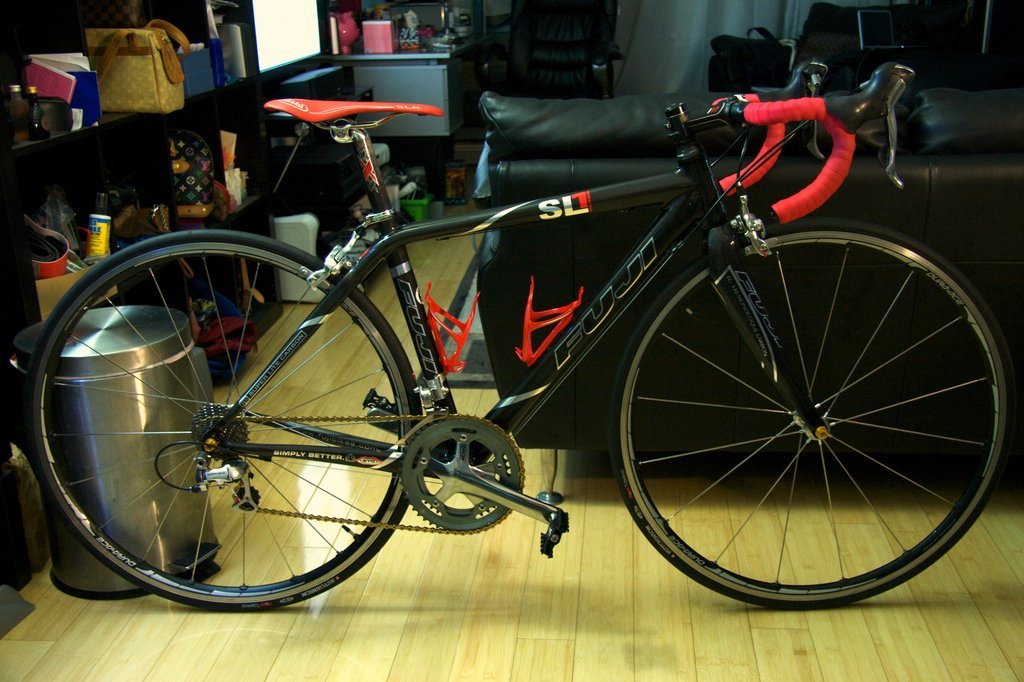Bike: (86, 128, 936, 612)
